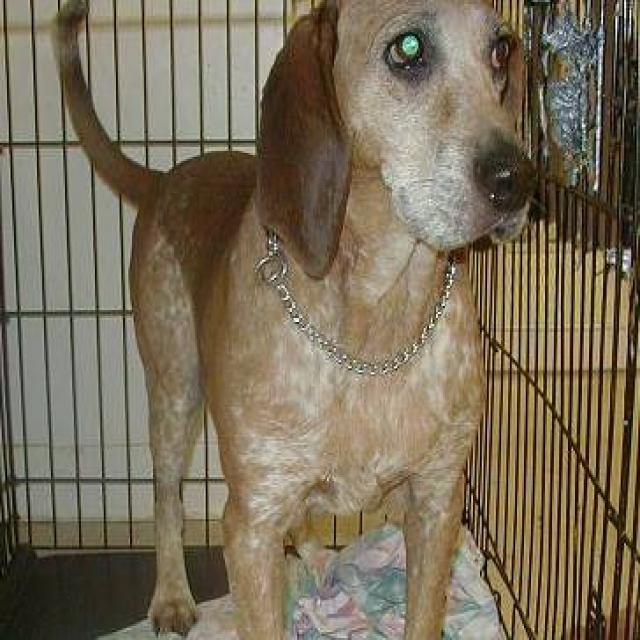dog: (49, 0, 544, 638)
